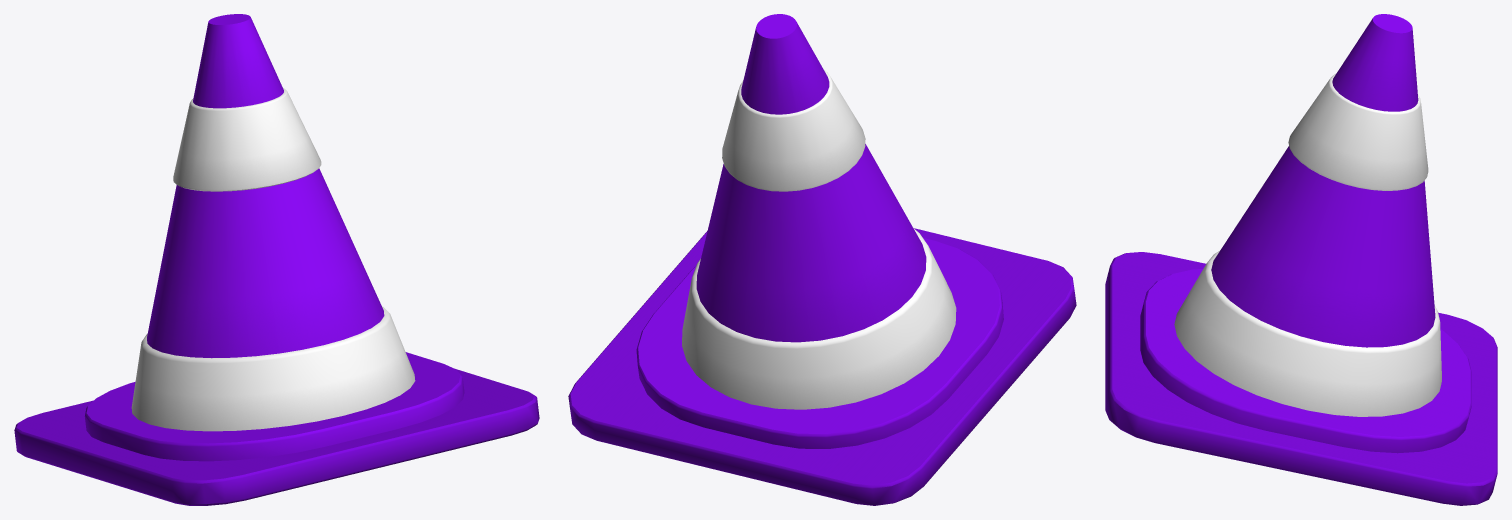
Rendered from PurpleCone.glb.
3 renders of one model, left to right at view 1: azimuth 30°, elevation 25°; view 2: azimuth 150°, elevation 25°; view 3: azimuth 270°, elevation 25°, orthographic. The views are drawn at different scales.
Parts seen in each view (by area): view 1: Plane_Plane.004; view 2: Plane_Plane.004; view 3: Plane_Plane.004.
Part boxes in pixels (box(x1,y1,x2,y2)): Plane_Plane.004: box(14, 14, 539, 505); Plane_Plane.004: box(568, 14, 1076, 505); Plane_Plane.004: box(1105, 14, 1497, 505).
Bounding box in the file's own units: 3.94 × 4.49 × 3.89.
1 material, 1 textured.
